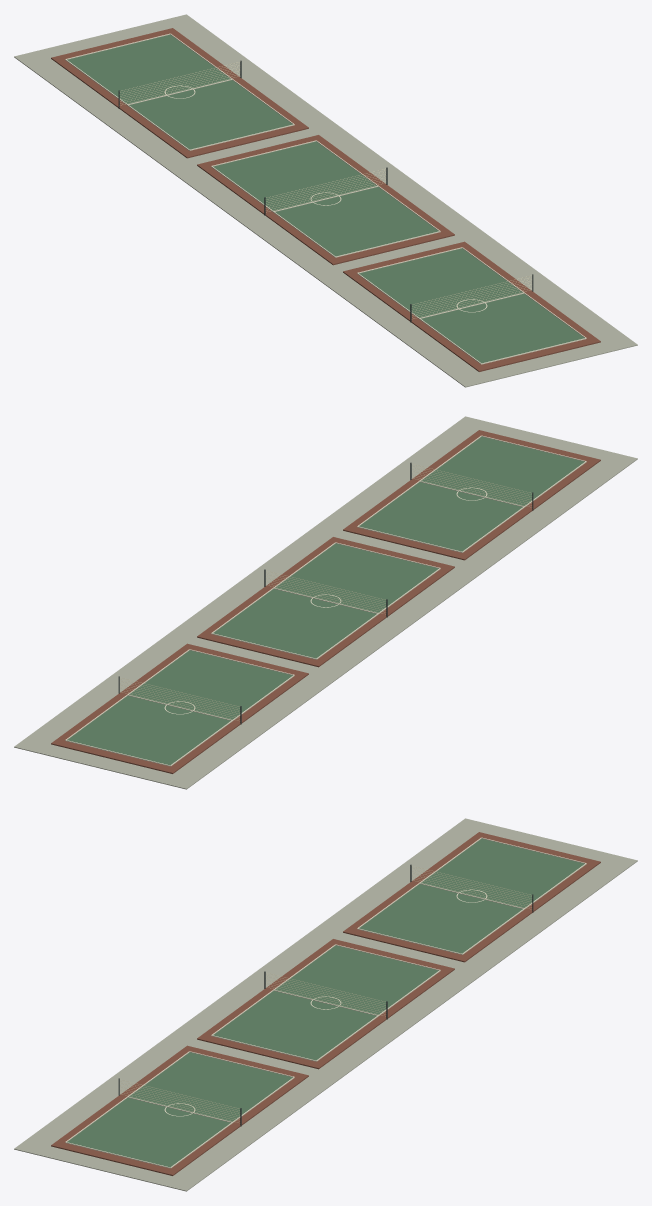
File: volley_B_track.glb
3 views of the same model, one above another, from view 1: azimuth 30°, elevation 25°; view 2: azimuth 150°, elevation 25°; view 3: azimuth 330°, elevation 25° (orthographic).
Parts seen in each view (by area): view 1: PavedSurround, Court_3_CourtInfield, Court_2_CourtInfield, Court_1_CourtInfield, Court_2_CourtRed, Court_3_CourtRed, Court_1_CourtRed, Court_3_CourtLines, Court_2_CourtLines, Court_1_CourtLines, Court_1_NetMesh, Court_3_NetMesh (+1 smaller); view 2: PavedSurround, Court_1_CourtInfield, Court_2_CourtInfield, Court_3_CourtInfield, Court_2_CourtRed, Court_1_CourtRed, Court_3_CourtRed, Court_1_CourtLines, Court_2_CourtLines, Court_3_CourtLines, Court_1_NetMesh, Court_3_NetMesh (+1 smaller); view 3: PavedSurround, Court_3_CourtInfield, Court_2_CourtInfield, Court_1_CourtInfield, Court_2_CourtRed, Court_3_CourtRed, Court_1_CourtRed, Court_3_CourtLines, Court_2_CourtLines, Court_1_CourtLines, Court_1_NetMesh, Court_3_NetMesh (+1 smaller).
Boxes of the visible parts, left/top/right/bottom form: PavedSurround: left=14, top=14, right=637, bottom=387; Court_3_CourtInfield: left=359, top=248, right=584, bottom=363; Court_2_CourtInfield: left=213, top=141, right=438, bottom=256; Court_1_CourtInfield: left=67, top=34, right=292, bottom=149; Court_2_CourtRed: left=197, top=135, right=454, bottom=265; Court_3_CourtRed: left=343, top=241, right=600, bottom=371; Court_1_CourtRed: left=51, top=28, right=308, bottom=158; Court_3_CourtLines: left=357, top=247, right=586, bottom=364; Court_2_CourtLines: left=211, top=140, right=440, bottom=257; Court_1_CourtLines: left=65, top=33, right=294, bottom=150; Court_1_NetMesh: left=120, top=61, right=240, bottom=105; Court_3_NetMesh: left=412, top=276, right=531, bottom=318; PavedSurround: left=14, top=416, right=637, bottom=789; Court_1_CourtInfield: left=67, top=650, right=292, bottom=765; Court_2_CourtInfield: left=213, top=543, right=438, bottom=658; Court_3_CourtInfield: left=359, top=436, right=584, bottom=551; Court_2_CourtRed: left=197, top=537, right=454, bottom=667; Court_1_CourtRed: left=51, top=643, right=308, bottom=773; Court_3_CourtRed: left=343, top=430, right=600, bottom=560; Court_1_CourtLines: left=65, top=649, right=294, bottom=766; Court_2_CourtLines: left=211, top=542, right=440, bottom=659; Court_3_CourtLines: left=357, top=435, right=586, bottom=552; Court_1_NetMesh: left=120, top=678, right=239, bottom=720; Court_3_NetMesh: left=411, top=463, right=531, bottom=507; PavedSurround: left=14, top=818, right=637, bottom=1191; Court_3_CourtInfield: left=67, top=1052, right=292, bottom=1167; Court_2_CourtInfield: left=213, top=945, right=438, bottom=1060; Court_1_CourtInfield: left=359, top=838, right=584, bottom=953; Court_2_CourtRed: left=197, top=939, right=454, bottom=1069; Court_3_CourtRed: left=51, top=1045, right=308, bottom=1175; Court_1_CourtRed: left=343, top=832, right=600, bottom=962; Court_3_CourtLines: left=65, top=1051, right=294, bottom=1168; Court_2_CourtLines: left=211, top=944, right=440, bottom=1061; Court_1_CourtLines: left=357, top=837, right=586, bottom=954; Court_1_NetMesh: left=411, top=865, right=531, bottom=909; Court_3_NetMesh: left=120, top=1080, right=239, bottom=1122.
Bounding box in the file's own units: 22.11 × 2.3 × 100.
